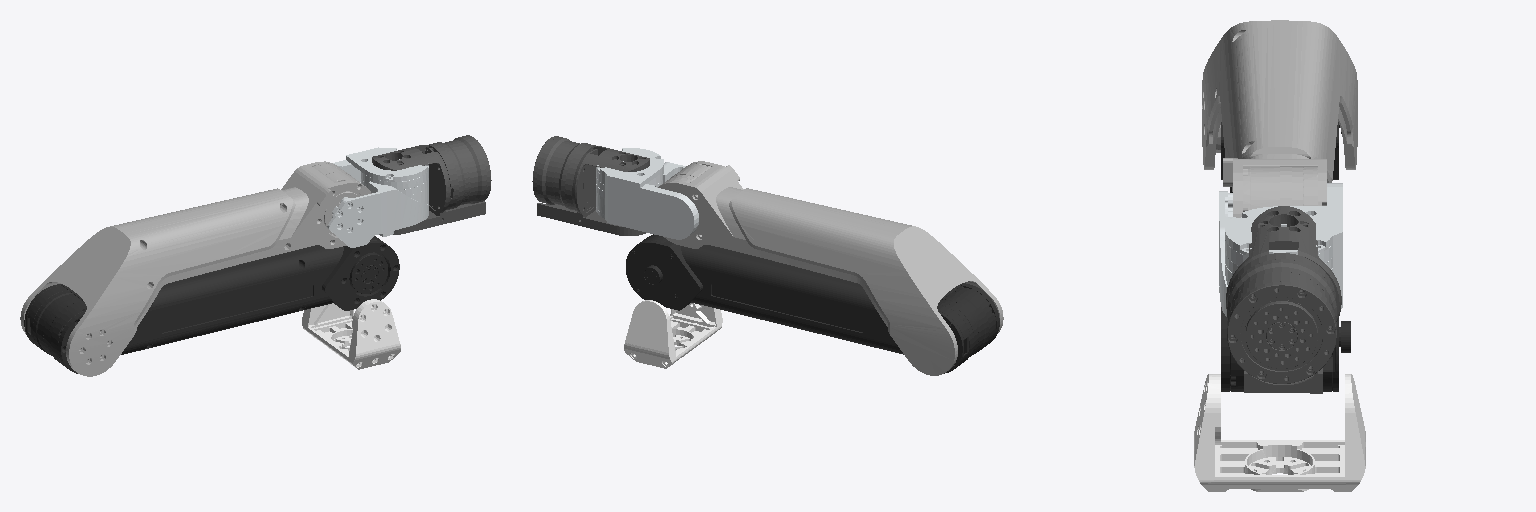
The robot description file, URDF, robot "ARX-5s-V5.0-urdf ceshi3":
<?xml version="1.0" encoding="utf-8" ?>
<!-- This URDF was automatically created by SolidWorks to URDF Exporter! Originally created by [author] ([email redacted]) 
     Commit Version: 1.6.0-4-g7f85cfe  Build Version: 1.6.7995.38578
     For more information, please see http://wiki.ros.org/sw_urdf_exporter -->
<robot name="ARX-5s-V5.0-urdf ceshi3">
    <mujoco>
        <compiler meshdir="../meshes/" balanceinertia="true" discardvisual="false" />
    </mujoco>
    <link name="base_link">
        <inertial>
            <origin xyz="-2.9949E-05 3.0537E-05 -0.033016" rpy="0 0 0" />
            <mass value="0.44071" />
            <inertia ixx="1.7392E-04" ixy="-3.4525E-07" ixz="-5.9337E-07" iyy="1.7547E-04" iyz="1.1271E-06" izz="1.5925E-04" />
        </inertial>
        <visual>
            <origin xyz="0 0 0" rpy="0 0 0" />
            <geometry>
                <mesh filename="package://airbot_play_v1/meshes/base_link.STL" />
            </geometry>
            <material name="">
                <color rgba="0.75294 0.75294 0.75294 1" />
            </material>
        </visual>
        <collision>
            <origin xyz="0 0 0" rpy="0 0 0" />
            <geometry>
                <mesh filename="package://airbot_play_v1/meshes/base_link.STL" />
            </geometry>
        </collision>
    </link>
    <link name="link1">
        <inertial>
            <origin xyz="-3.3048E-08 -0.00059451 0.016543" rpy="0 0 0" />
            <mass value="0.051342" />
            <inertia ixx="5.7689E-05" ixy="-7E-11" ixz="-3E-11" iyy="1.6943E-05" iyz="-3.3983E-07" izz="5.5562E-05" />
        </inertial>
        <visual>
            <origin xyz="0 0 0" rpy="0 0 0" />
            <geometry>
                <mesh filename="package://airbot_play_v1/meshes/link1.STL" />
            </geometry>
            <material name="">
                <color rgba="1 1 1 1" />
            </material>
        </visual>
        <collision>
            <origin xyz="0 0 0" rpy="0 0 0" />
            <geometry>
                <mesh filename="package://airbot_play_v1/meshes/link1.STL" />
            </geometry>
        </collision>
    </link>
    <joint name="joint1" type="revolute">
        <origin xyz="0 0 0" rpy="0 0 0" />
        <parent link="base_link" />
        <child link="link1" />
        <axis xyz="0 0 1" />
        <limit lower="-10" upper="10" effort="100" velocity="1000" />
    </joint>
    <link name="link2">
        <inertial>
            <origin xyz="0.13234 -0.00019055 -0.0019415" rpy="0 0 0" />
            <mass value="1.1379" />
            <inertia ixx="5.3430993E-04" ixy="-4.820824E-05" ixz="7.5502E-07" iyy="0" iyz="-2.6064E-07" izz="1.617805616E-02" />
        </inertial>
        <visual>
            <origin xyz="0 0 0" rpy="0 0 0" />
            <geometry>
                <mesh filename="package://airbot_play_v1/meshes/link2.STL" />
            </geometry>
            <material name="">
                <color rgba="0.25098 0.25098 0.25098 1" />
            </material>
        </visual>
        <collision>
            <origin xyz="0 0 0" rpy="0 0 0" />
            <geometry>
                <mesh filename="package://airbot_play_v1/meshes/link2.STL" />
            </geometry>
        </collision>
    </link>
    <joint name="joint2" type="revolute">
        <origin xyz="0 0 0.0402" rpy="-1.5708 0.0016463 3.1416" />
        <parent link="link1" />
        <child link="link2" />
        <axis xyz="0 0 1" />
        <limit lower="-10" upper="10" effort="100" velocity="1000" />
    </joint>
    <link name="link3">
        <inertial>
            <origin xyz="0.18498 0.0096239 8.209E-05" rpy="0 0 0" />
            <mass value="0.55615" />
            <inertia ixx="3.6463748E-04" ixy="-4.7568977E-04" ixz="-9.61418E-06" iyy="4.59290981E-03" iyz="-1.90857E-06" izz="4.61730434E-03" />
        </inertial>
        <visual>
            <origin xyz="0 0 0" rpy="0 0 0" />
            <geometry>
                <mesh filename="package://airbot_play_v1/meshes/link3.STL" />
            </geometry>
            <material name="">
                <color rgba="0.75294 0.75294 0.75294 1" />
            </material>
        </visual>
        <collision>
            <origin xyz="0 0 0" rpy="0 0 0" />
            <geometry>
                <mesh filename="package://airbot_play_v1/meshes/link3.STL" />
            </geometry>
        </collision>
    </link>
    <joint name="joint3" type="revolute">
        <origin xyz="0.264 0 0" rpy="0 0 -2.9169" />
        <parent link="link2" />
        <child link="link3" />
        <axis xyz="0 0 1" />
        <limit lower="-10" upper="10" effort="100" velocity="1000" />
    </joint>
    <link name="link4">
        <inertial>
            <origin xyz="0.05354 -0.0002508 -0.00056729" rpy="0 0 0" />
            <mass value="0.35037" />
            <inertia ixx="1.1078784E-04" ixy="5.68483E-06" ixz="-1.778429E-05" iyy="2.1478415E-04" iyz="-6.32521E-06" izz="1.6720967E-04" />
        </inertial>
        <visual>
            <origin xyz="0 0 0" rpy="0 0 0" />
            <geometry>
                <mesh filename="package://airbot_play_v1/meshes/link4.STL" />
            </geometry>
            <material name="">
                <color rgba="0.89804 0.91765 0.92941 1" />
            </material>
        </visual>
        <collision>
            <origin xyz="0 0 0" rpy="0 0 0" />
            <geometry>
                <mesh filename="package://airbot_play_v1/meshes/link4.STL" />
            </geometry>
        </collision>
    </link>
    <joint name="joint4" type="revolute">
        <origin xyz="0.25132 0 0" rpy="0 0 -0.22636" />
        <parent link="link3" />
        <child link="link4" />
        <axis xyz="0 0 1" />
        <limit lower="-10" upper="10" effort="100" velocity="1000" />
    </joint>
    <link name="link5">
        <inertial>
            <origin xyz="0.051613 -0.00072588 -0.00061659" rpy="0 0 0" />
            <mass value="0.33138" />
            <inertia ixx="3.1443063E-04" ixy="3.6082E-07" ixz="-7.6431E-07" iyy="2.9391628E-04" iyz="-1.8877E-07" izz="2.9233995E-04" />
        </inertial>
        <visual>
            <origin xyz="0 0 0" rpy="0 0 0" />
            <geometry>
                <mesh filename="package://airbot_play_v1/meshes/link5.STL" />
            </geometry>
            <material name="">
                <color rgba="0.41176 0.41176 0.41176 1" />
            </material>
        </visual>
        <collision>
            <origin xyz="0 0 0" rpy="0 0 0" />
            <geometry>
                <mesh filename="package://airbot_play_v1/meshes/link5.STL" />
            </geometry>
        </collision>
    </link>
    <joint name="joint5" type="revolute">
        <origin xyz="0.06 -0.0005 -0.002" rpy="-1.5708 -0.0025284 0" />
        <parent link="link4" />
        <child link="link5" />
        <axis xyz="0 0 1" />
        <limit lower="-10" upper="10" effort="100" velocity="1000" />
    </joint>
    <link name="link6">
        <inertial>
            <origin xyz="0 0 0" rpy="0 0 0" />
            <mass value="1E-09" />
            <inertia ixx="1E-09" ixy="1E-09" ixz="1E-09" iyy="1E-09" iyz="1E-09" izz="1E-09" />
        </inertial>
    </link>
    <joint name="joint6" type="revolute">
        <origin xyz="0.075 0 0" rpy="0 0 0" />
        <parent link="link5" />
        <child link="link6" />
        <axis xyz="1 0 0" />
        <limit lower="-10" upper="10" effort="100" velocity="1000" />
    </joint>
    <transmission name="trans_joint1">
        <type>transmission_interface/SimpleTransmission</type>
        <joint name="joint1">
            <hardwareInterface>hardware_interface/PositionJointInterface</hardwareInterface>
        </joint>
        <actuator name="joint1_motor">
            <hardwareInterface>hardware_interface/PositionJointInterface</hardwareInterface>
            <mechanicalReduction>1</mechanicalReduction>
        </actuator>
    </transmission>
    <transmission name="trans_joint2">
        <type>transmission_interface/SimpleTransmission</type>
        <joint name="joint2">
            <hardwareInterface>hardware_interface/PositionJointInterface</hardwareInterface>
        </joint>
        <actuator name="joint2_motor">
            <hardwareInterface>hardware_interface/PositionJointInterface</hardwareInterface>
            <mechanicalReduction>1</mechanicalReduction>
        </actuator>
    </transmission>
    <transmission name="trans_joint3">
        <type>transmission_interface/SimpleTransmission</type>
        <joint name="joint3">
            <hardwareInterface>hardware_interface/PositionJointInterface</hardwareInterface>
        </joint>
        <actuator name="joint3_motor">
            <hardwareInterface>hardware_interface/PositionJointInterface</hardwareInterface>
            <mechanicalReduction>1</mechanicalReduction>
        </actuator>
    </transmission>
    <transmission name="trans_joint4">
        <type>transmission_interface/SimpleTransmission</type>
        <joint name="joint4">
            <hardwareInterface>hardware_interface/PositionJointInterface</hardwareInterface>
        </joint>
        <actuator name="joint4_motor">
            <hardwareInterface>hardware_interface/PositionJointInterface</hardwareInterface>
            <mechanicalReduction>1</mechanicalReduction>
        </actuator>
    </transmission>
    <transmission name="trans_joint5">
        <type>transmission_interface/SimpleTransmission</type>
        <joint name="joint5">
            <hardwareInterface>hardware_interface/PositionJointInterface</hardwareInterface>
        </joint>
        <actuator name="joint5_motor">
            <hardwareInterface>hardware_interface/PositionJointInterface</hardwareInterface>
            <mechanicalReduction>1</mechanicalReduction>
        </actuator>
    </transmission>
    <transmission name="trans_joint6">
        <type>transmission_interface/SimpleTransmission</type>
        <joint name="joint6">
            <hardwareInterface>hardware_interface/PositionJointInterface</hardwareInterface>
        </joint>
        <actuator name="joint6_motor">
            <hardwareInterface>hardware_interface/PositionJointInterface</hardwareInterface>
            <mechanicalReduction>1</mechanicalReduction>
        </actuator>
    </transmission>
    <gazebo>
        <plugin name="gazebo_ros_control">
            <robotNamespace>/</robotNamespace>
        </plugin>
    </gazebo>
</robot>

--- Render facts (derived) ---
3 views of the same robot in one strip: view 1: azimuth 30°, elevation 25°; view 2: azimuth 150°, elevation 25°; view 3: azimuth 270°, elevation 25° (orthographic).
Model ARX-5s-V5.0-urdf ceshi3 with 7 links and 6 joints (6 revolute), rooted at base_link, posed every joint at zero.
Visible links, largest first — view 1: link3, link2, link4, link5, link1; view 2: link3, link2, link5, link4, link1; view 3: link3, link5, link1, link4, link2.
Boxes of the visible links, x1,y1,x2,y2 form: link3: (20,161,371,376); link2: (24,236,399,373); link4: (327,147,428,247); link5: (372,135,491,234); link1: (302,299,400,369); link3: (658,161,1003,375); link2: (626,234,999,373); link5: (532,136,649,235); link4: (596,148,698,239); link1: (624,300,722,368); link3: (1202,20,1357,217); link5: (1226,206,1341,393); link1: (1194,374,1365,491); link4: (1219,183,1342,316); link2: (1221,122,1350,391).
Size in the robot's own frame: 0.411 by 0.0872 by 0.1647 metres.
Meshes: 6 distinct files referenced, 5 mesh visuals loaded (5 binary STL); not drawn: 1 (reference not matched to a file when rendering).
